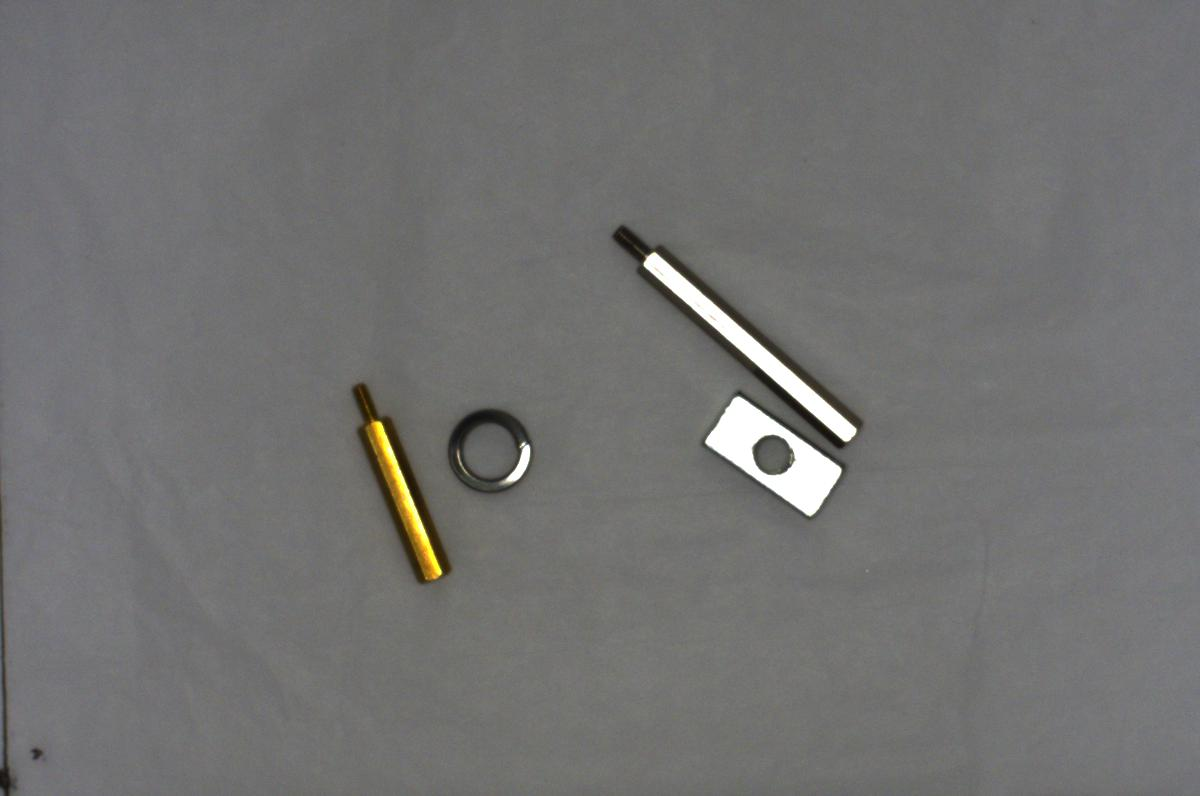Hexagon pillar: (342, 372, 452, 587)
Hexagonal steel column: (600, 218, 868, 456)
Rectangular nut: (700, 387, 845, 522)
Spring washer: (438, 407, 548, 502)
